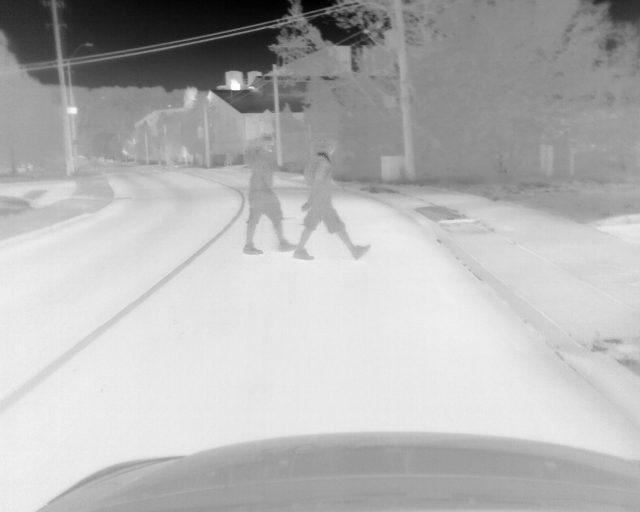people: (293, 136, 372, 262), (243, 134, 294, 255)
